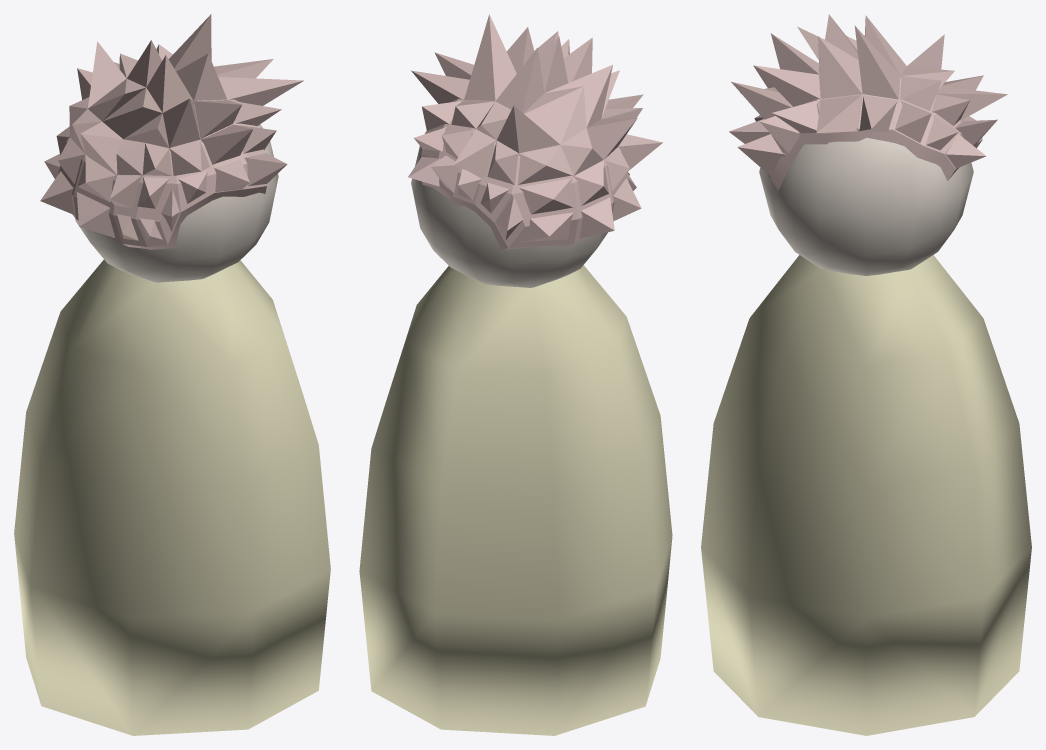
File: Man_B.fbx
The picture shows the model from 3 angles, left to right: view 1: azimuth 30°, elevation 25°; view 2: azimuth 150°, elevation 25°; view 3: azimuth 270°, elevation 25°; orthographic projection. The views are drawn at different scales.
Parts seen in each view (by area): view 1: polySurface1; view 2: polySurface1; view 3: polySurface1.
Boxes of the visible parts, x1,y1,x2,y2 form: polySurface1: [14, 14, 330, 735]; polySurface1: [359, 14, 672, 735]; polySurface1: [701, 14, 1031, 735].
Size of the model in its own units: 0.35 by 0.7729 by 0.35.
